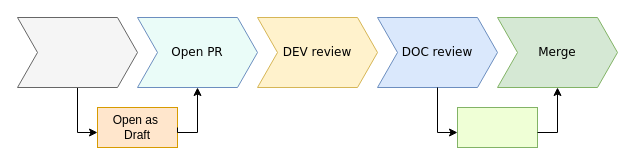
The diagram is 635 pixels wide and 165 high, and some of its shapes have lost their labels. Each missing label, with the box of its shape:
Push to GitHub: (16, 16, 138, 88)
Ready for merge: (456, 106, 538, 148)
